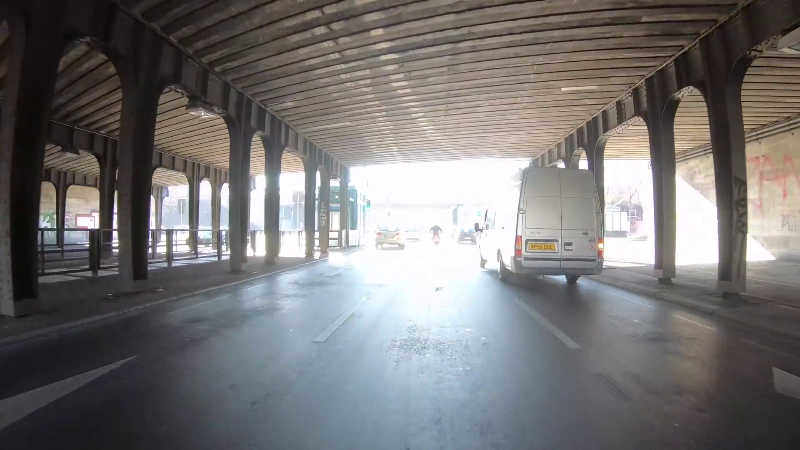Plate: (526, 243, 557, 251)
